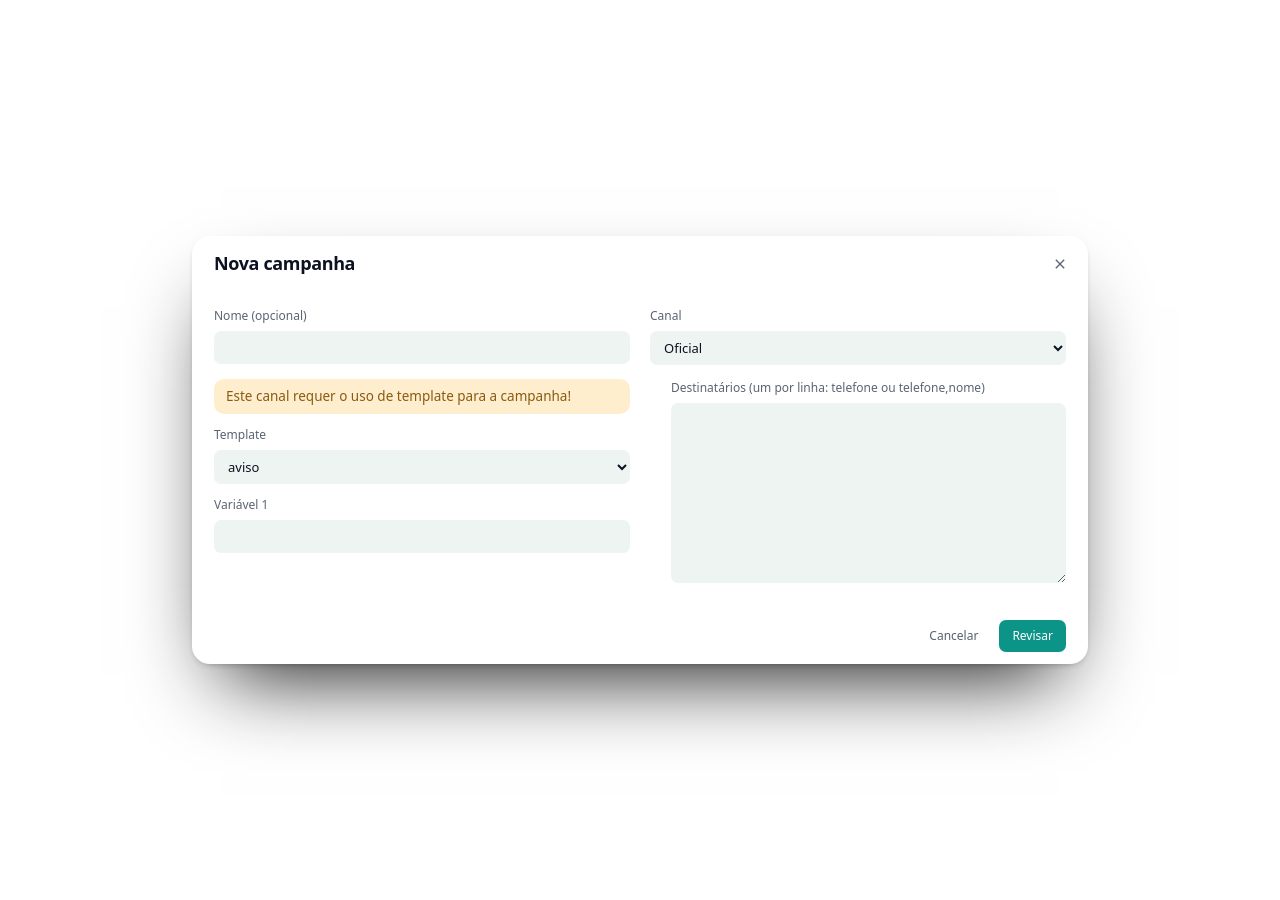
CreateCampaignModal › canal oficial exige template selecionado (placeholder não conta)
Select "Selecione um template" in the dropdown labelled "Template" at [422, 467], box 214,450 -> 630,484
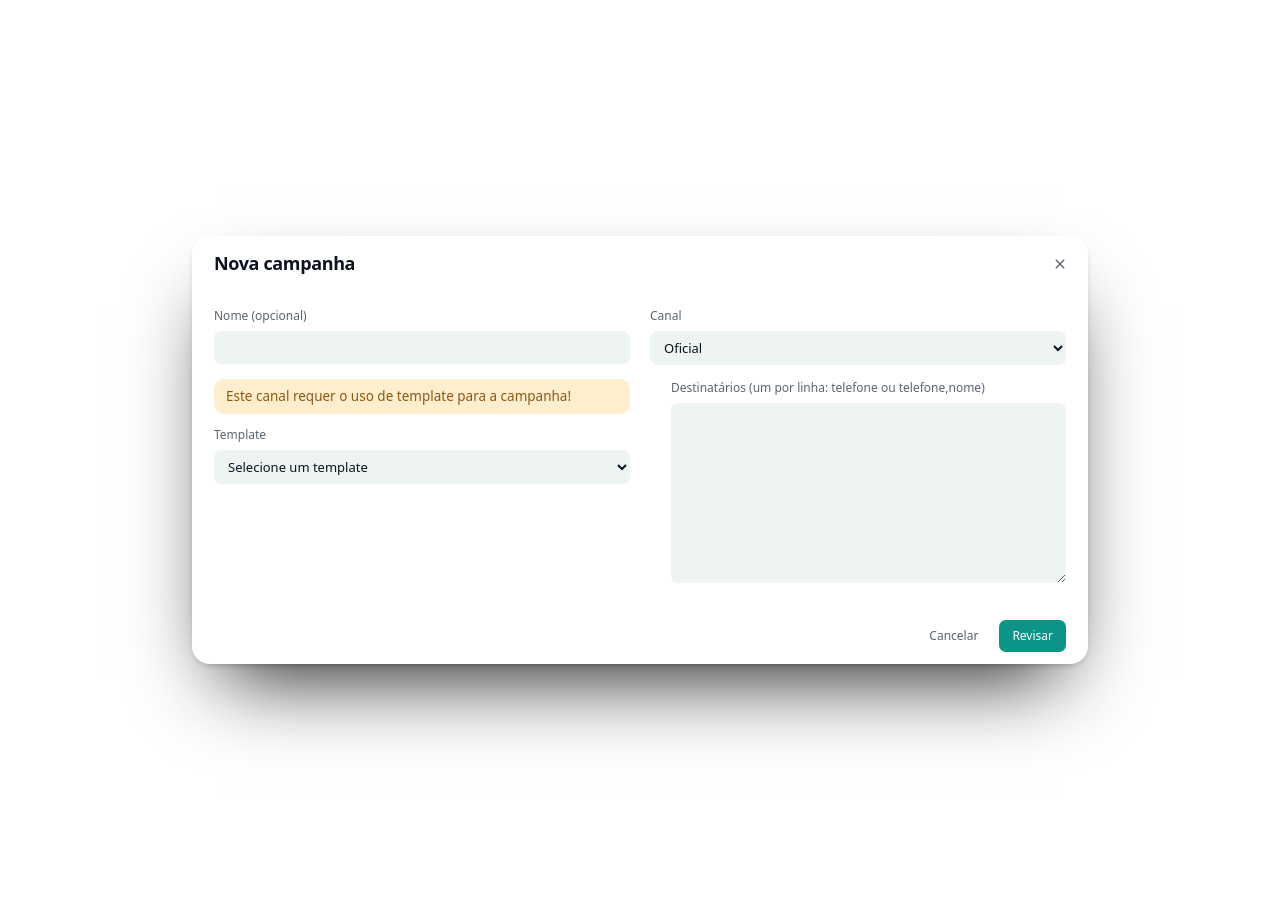
Type "5511999990000" into the text box labelled "Destinatários (um por linha: telefone ou telefone,nome)" at [868, 493], box 671,403 -> 1066,583
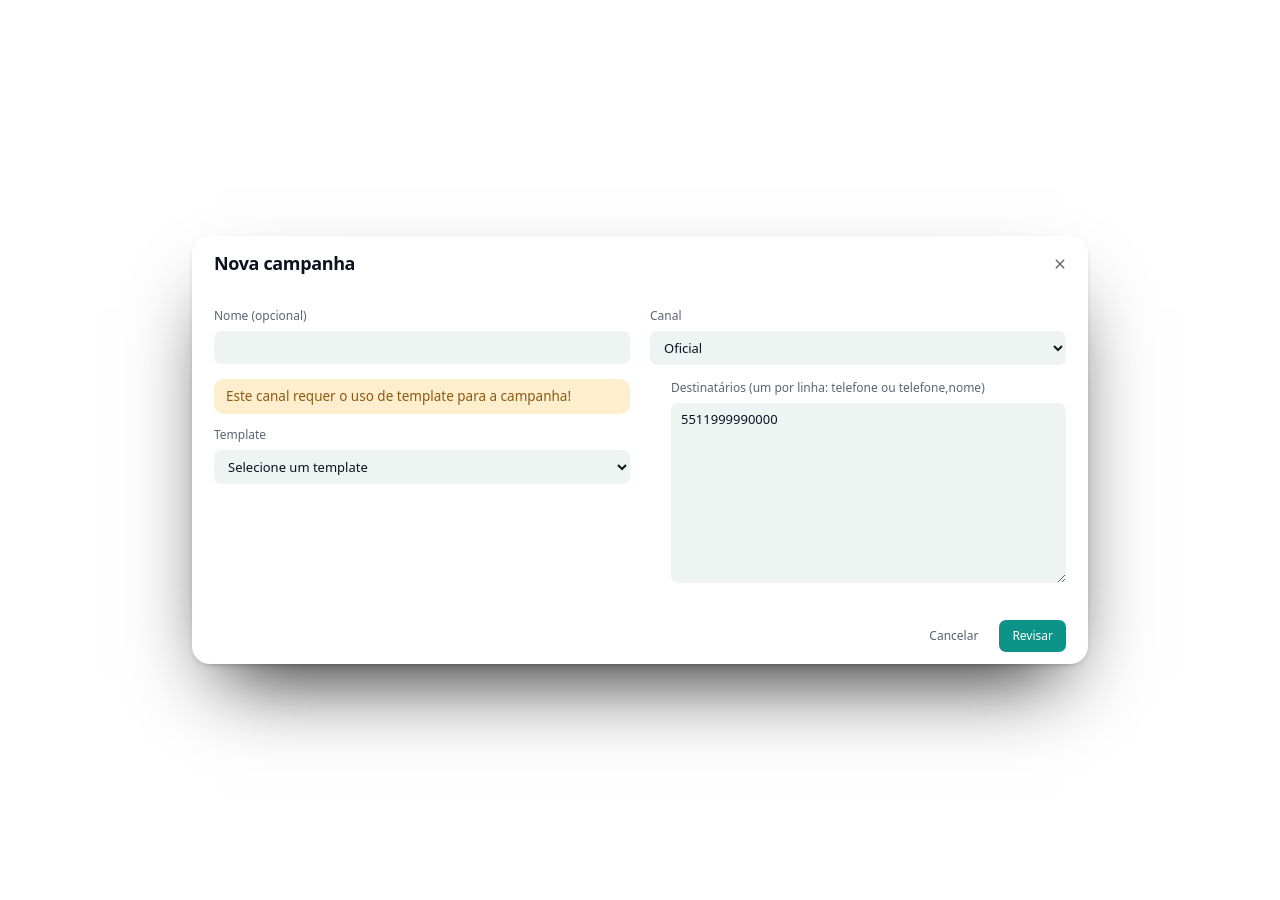
Click the button "Revisar" at [1033, 636], box 999,620 -> 1066,652
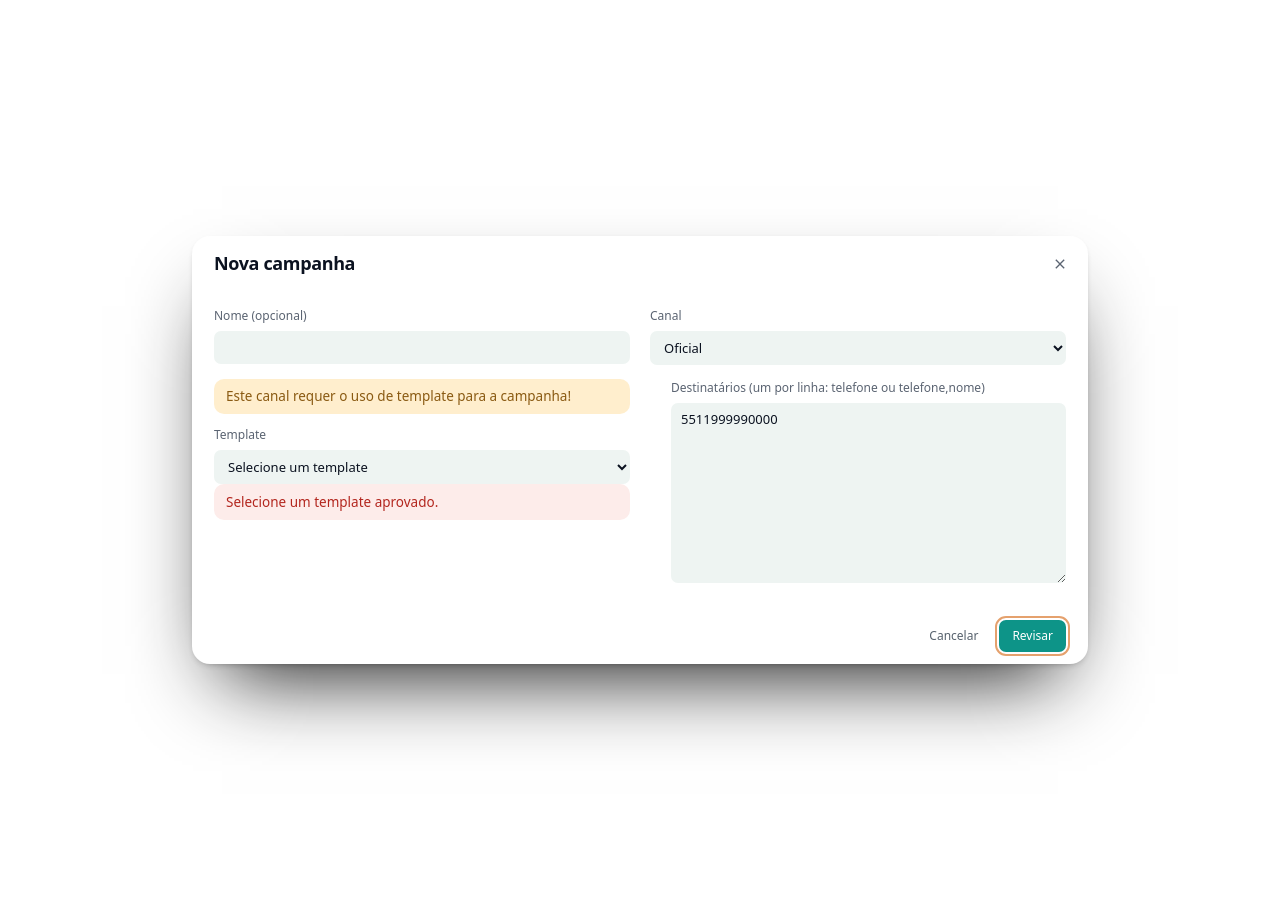
Result: the text "Selecione um template aprovado." is shown at 214,484 -> 630,520
